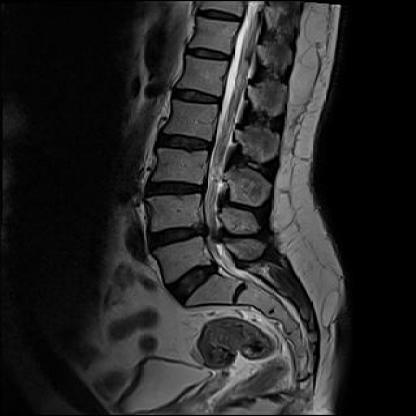Disc Bulgerotation: (147, 223, 203, 250), (157, 131, 211, 156), (144, 178, 203, 200)
Disc Protrusionrotation: (164, 266, 227, 299)
